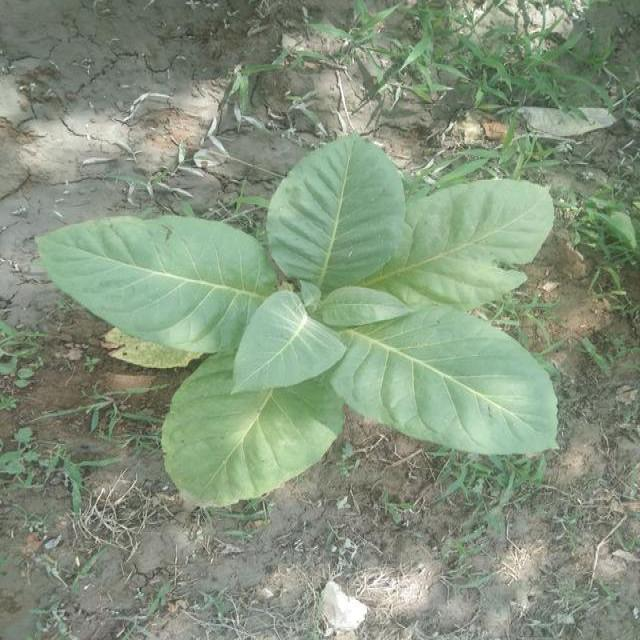crop: (37, 143, 552, 487)
